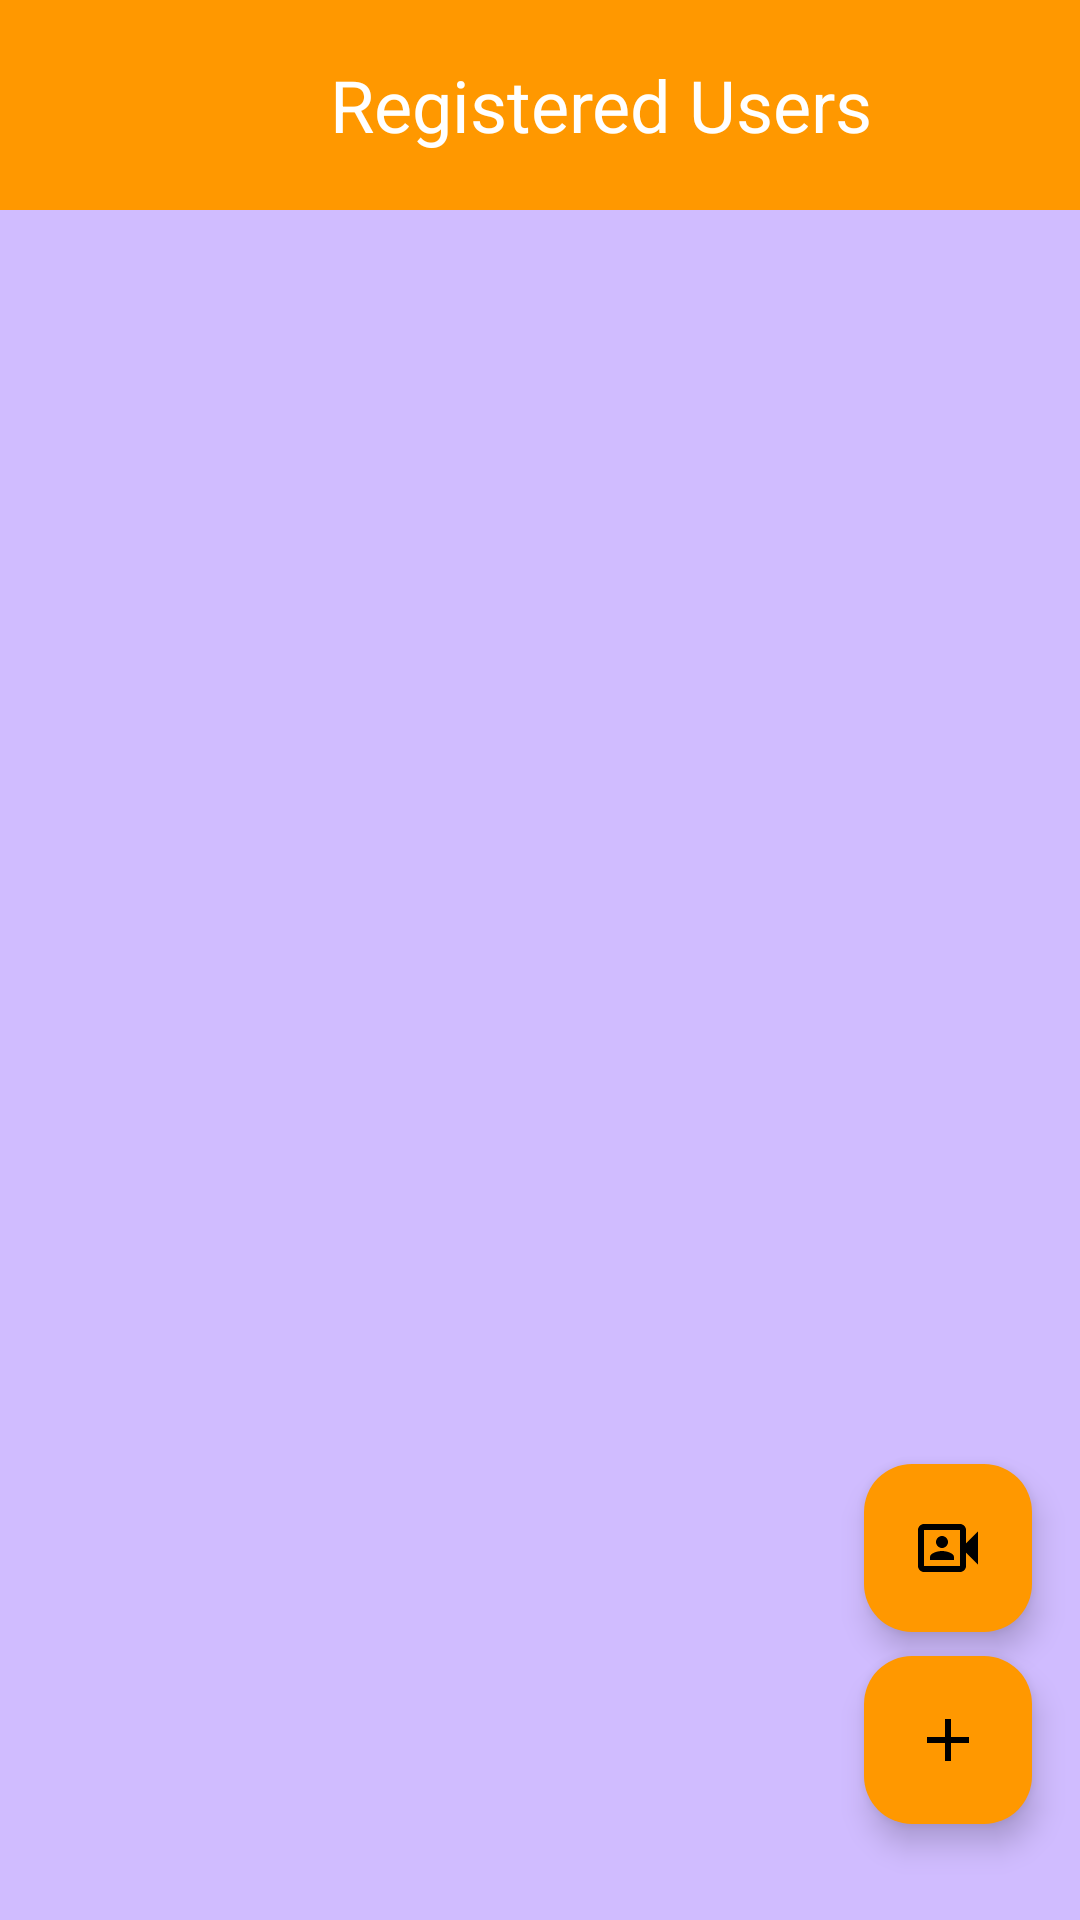

Named icons in this screenshot (1080*1920) and their centers, point (x, y):
add: point (948, 1740)
camera: point (948, 1548)
